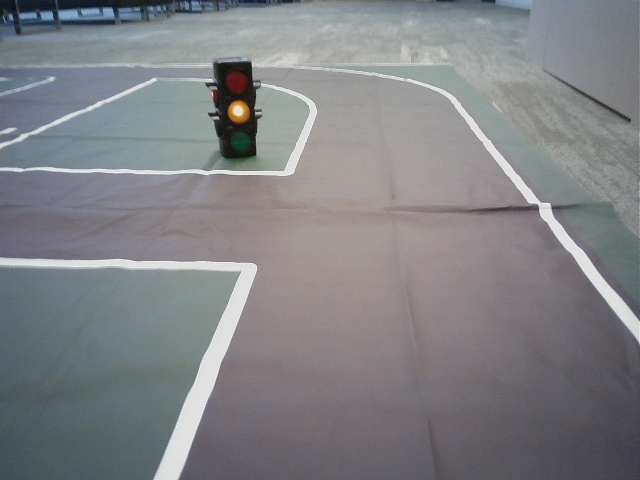yellow: (220, 63, 253, 153)
